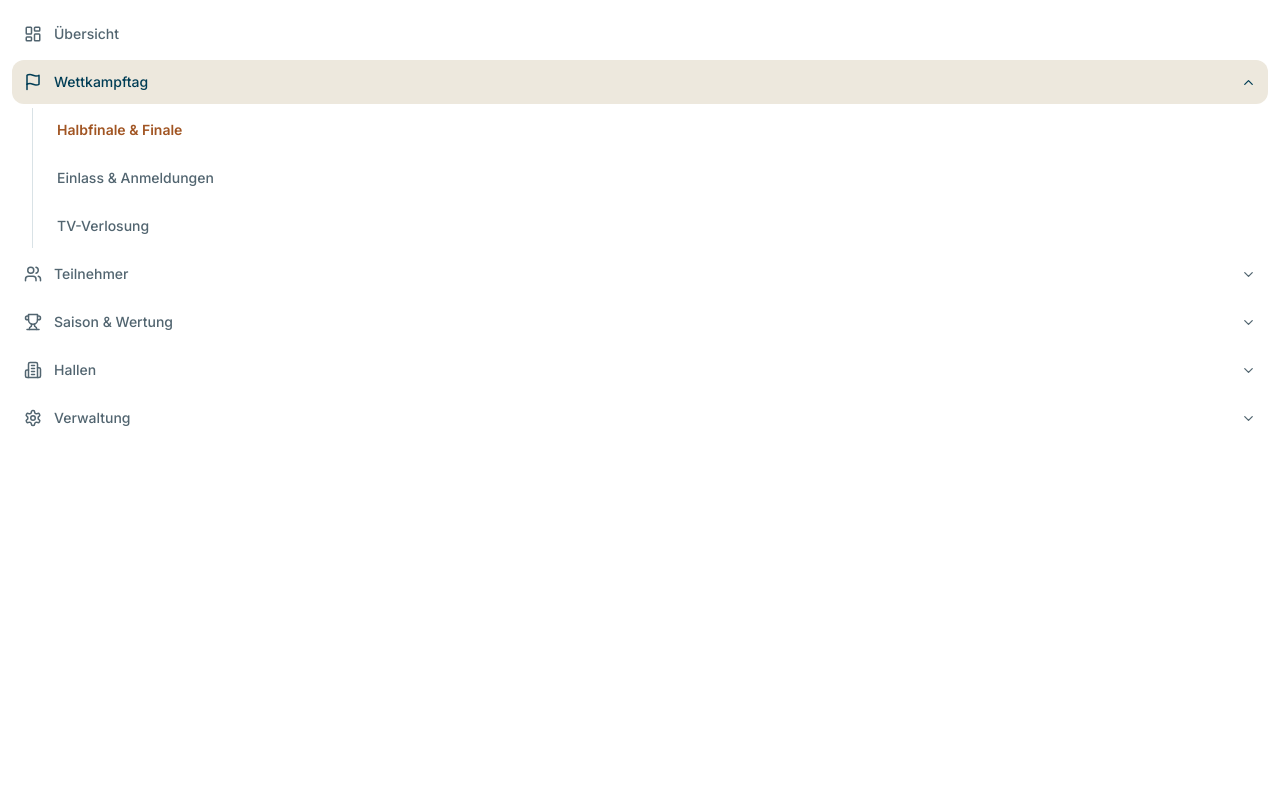
Test: grouped admin navigation › opens the current competition group without exposing every season tool
The width and height of the screenshot is (1280, 800).
Check: the link "Qualifikationsrouten" is not shown
Click the button "Saison & Wertung": (114, 322) [12,300,1268,344]
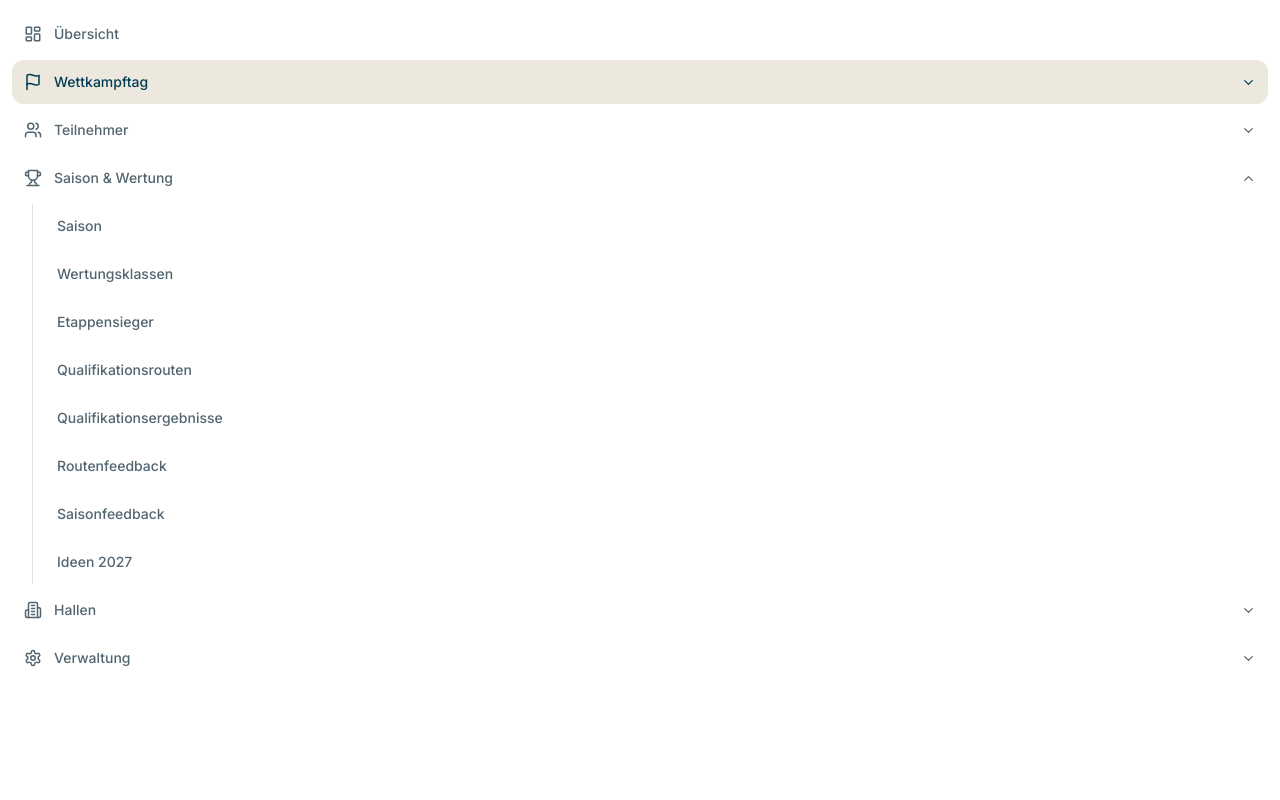
Check: the button "Wettkampftag" is collapsed, box [12,60,1268,104]
